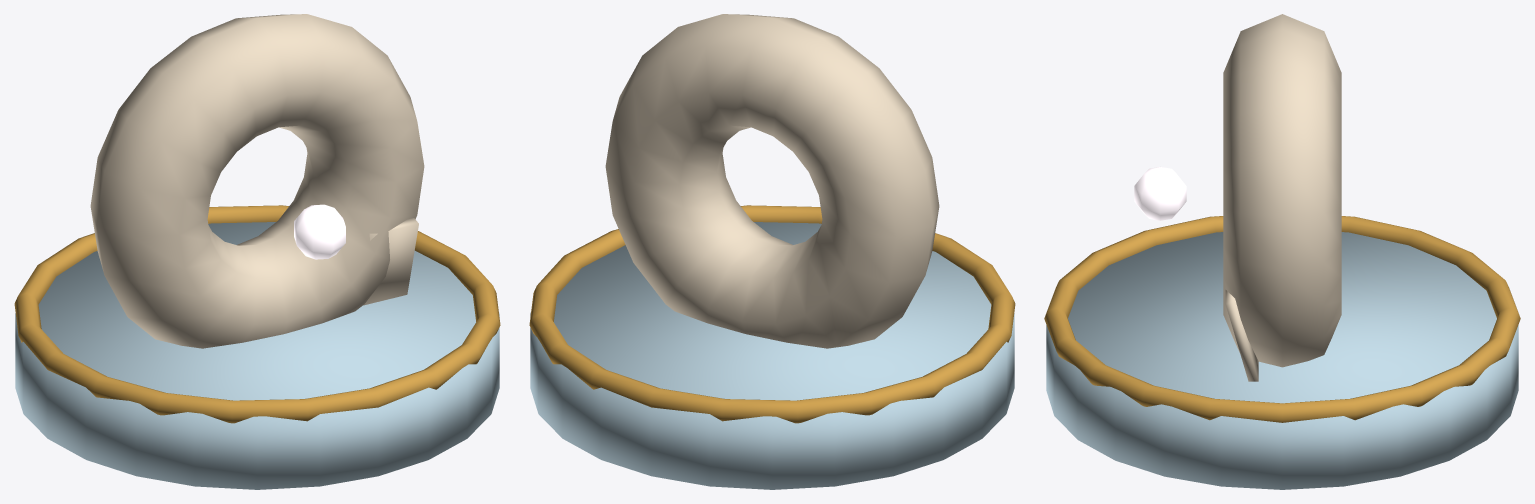
The model's file is opera_doctor_bandage.glb.
3 views of the same model, side by side, from view 1: azimuth 30°, elevation 25°; view 2: azimuth 150°, elevation 25°; view 3: azimuth 270°, elevation 25° (orthographic). The views are drawn at different scales.
Parts seen in each view (by area): view 1: VisualMesh.003; view 2: VisualMesh.003; view 3: VisualMesh.003.
Part boxes in pixels (left/top/right/bottom): VisualMesh.003: left=14, top=14, right=500, bottom=489; VisualMesh.003: left=529, top=14, right=1015, bottom=489; VisualMesh.003: left=1044, top=14, right=1520, bottom=489.
Size of the model in its own units: 2.42 by 2.02 by 2.42.
